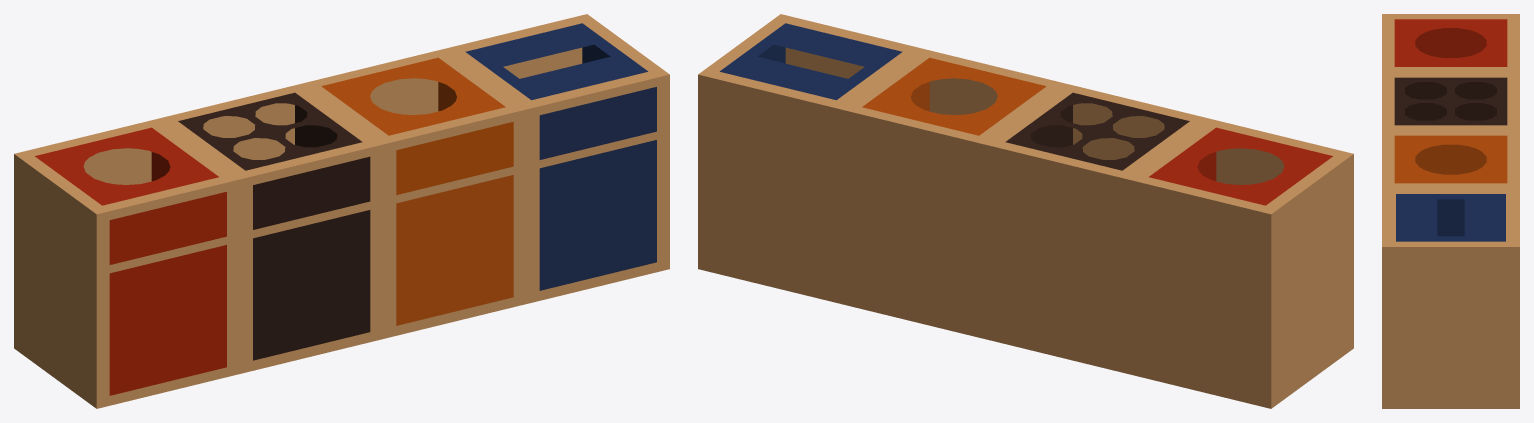
Rendered from Bins.fbx.
The picture shows the model from 3 angles, left to right: view 1: azimuth 30°, elevation 25°; view 2: azimuth 150°, elevation 25°; view 3: azimuth 270°, elevation 25°; orthographic projection. The views are drawn at different scales.
Visible parts, largest first — view 1: Cube.010; view 2: Cube.010; view 3: Cube.010.
Part boxes in pixels (box(x1,y1,x2,y2)): Cube.010: box(14, 14, 669, 408); Cube.010: box(698, 14, 1353, 408); Cube.010: box(1382, 14, 1519, 408).
Size of the model in its own units: 123 by 40 by 30.84.
